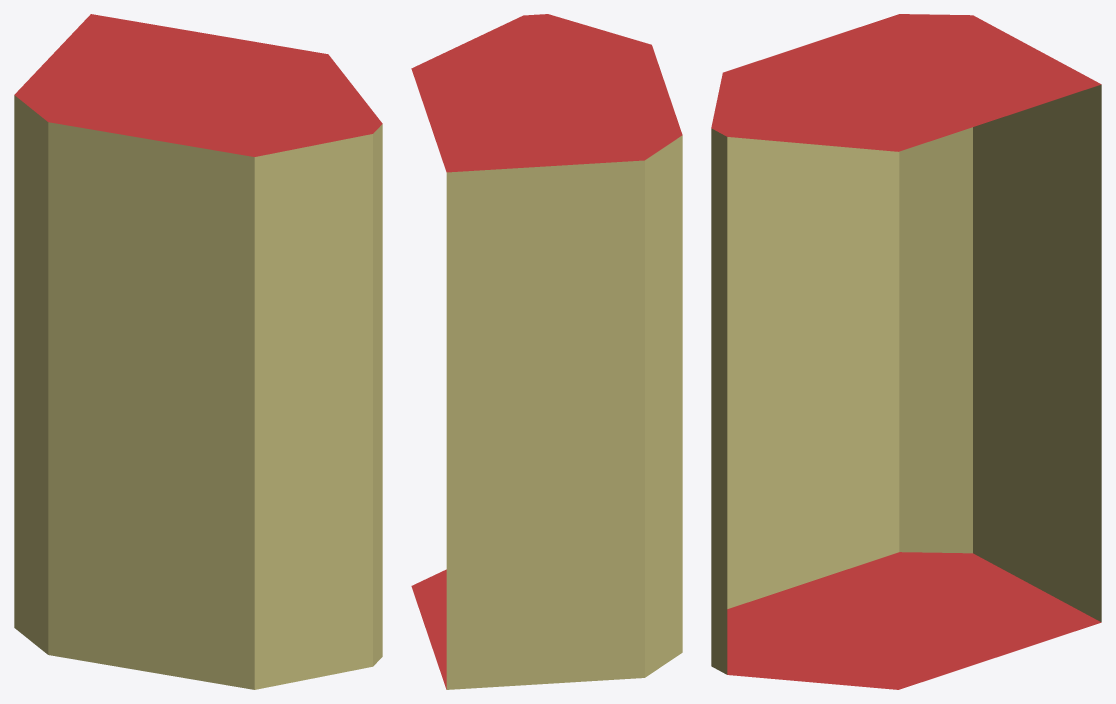
3 views of the same model, side by side, from view 1: azimuth 30°, elevation 25°; view 2: azimuth 150°, elevation 25°; view 3: azimuth 270°, elevation 25° (orthographic). The views are drawn at different scales.
Size of the model in its own units: 3.86 by 4.62 by 7.03.
